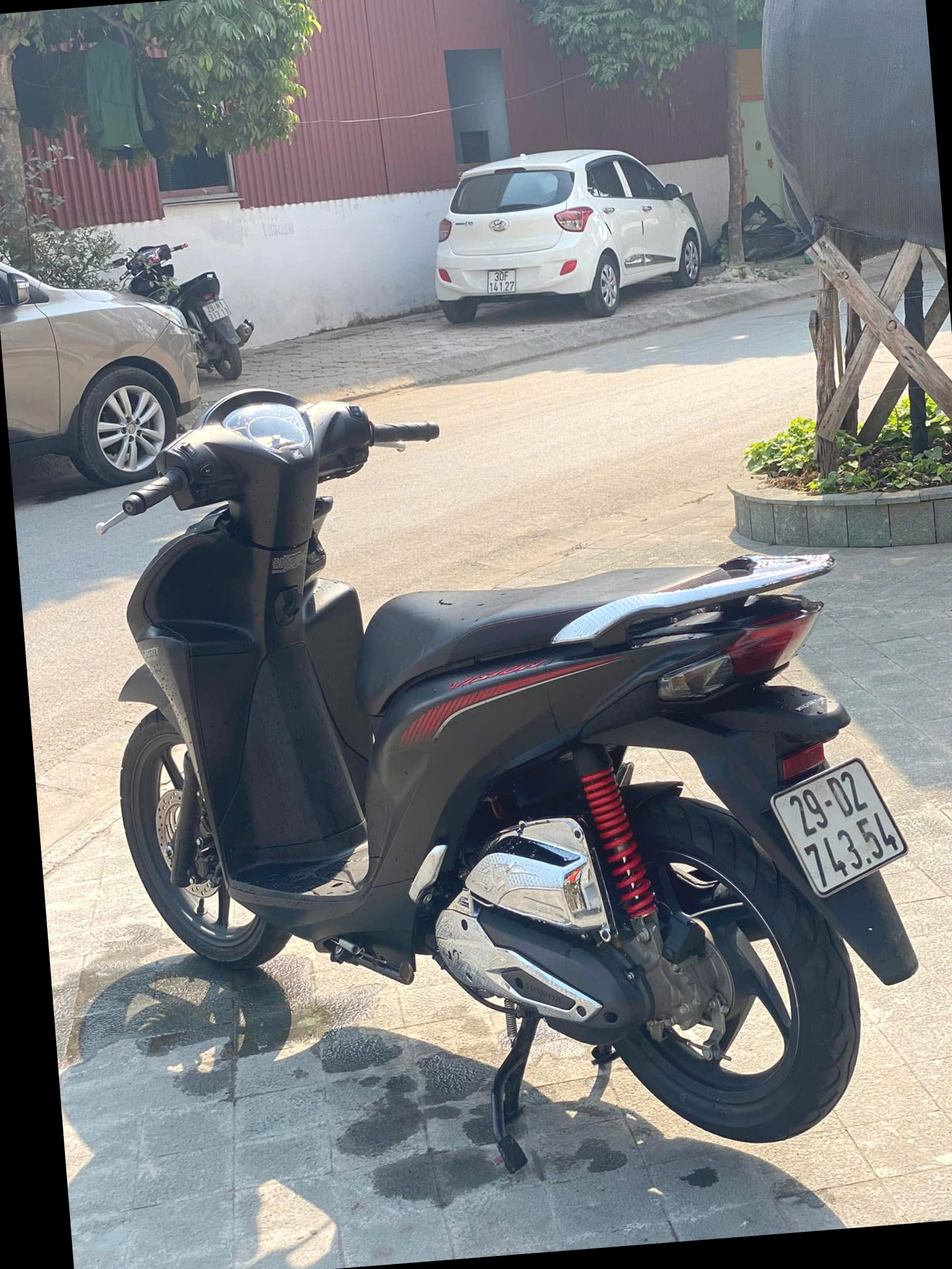Bien-so: (767, 748, 923, 903)
